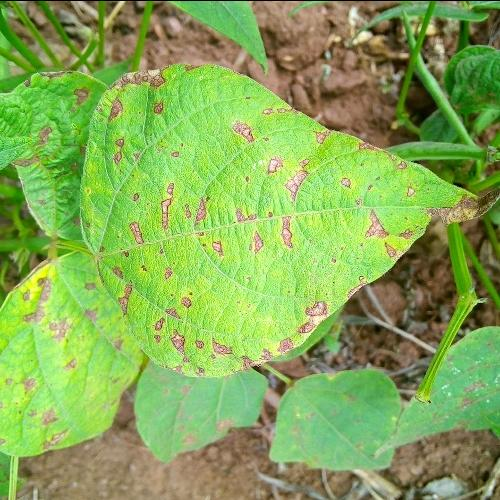hawar: (101, 47, 376, 473)
